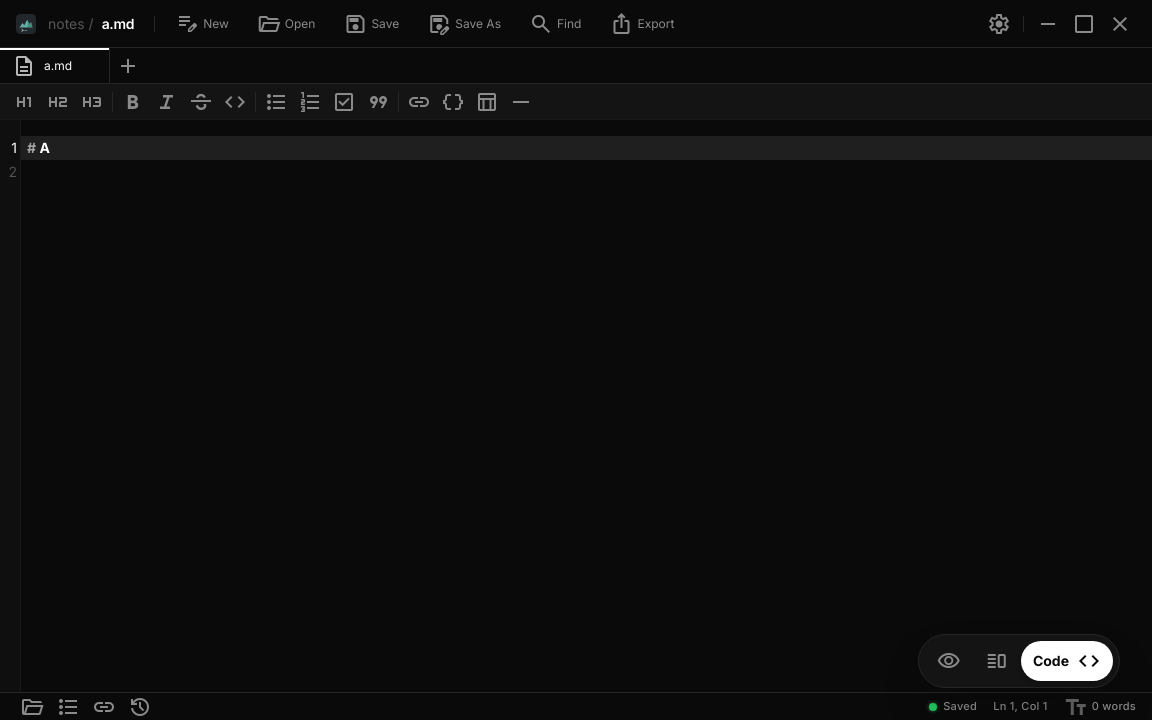
App external conflict › a change seen on focus parks autosave until the user chooses
Expected: the field with class "cm-content" is shown, [21,136,1151,160]
Click the button named "bold" at point(133, 102), box [117,86,149,118]
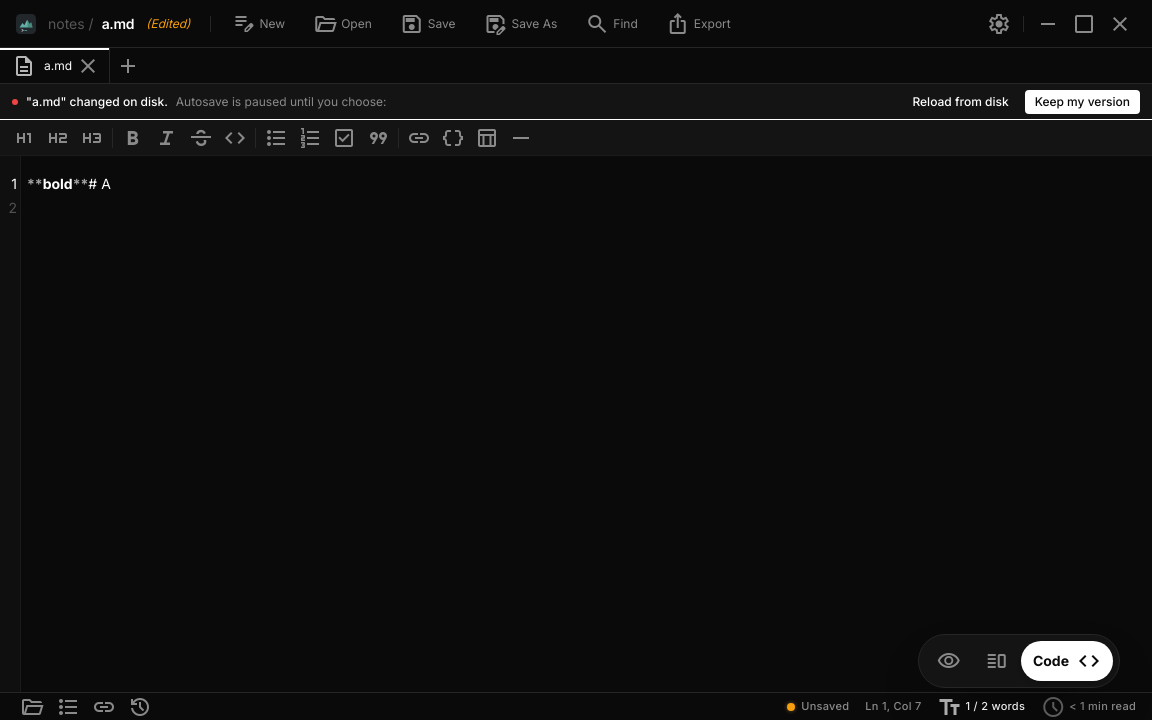
Expected: the text "Unsaved" is shown, [801,698,849,715]
Expected: the button "Keep my version" is shown, [1025,90,1140,114]
